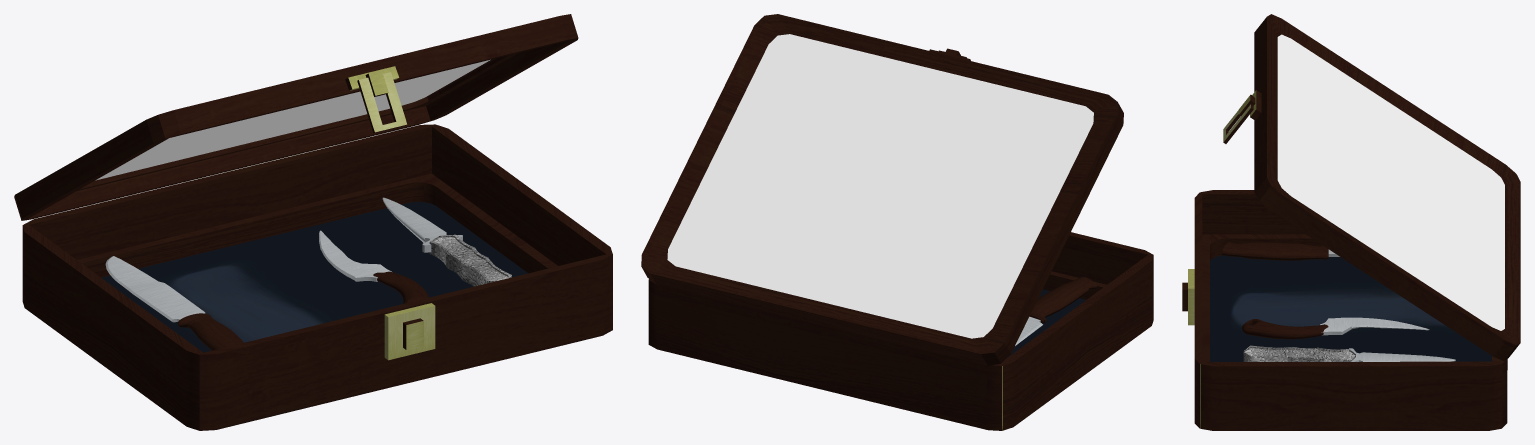
Rendered from OpenedCaseMissingKnife.fbx.
3 renders of one model, left to right at view 1: azimuth 30°, elevation 25°; view 2: azimuth 150°, elevation 25°; view 3: azimuth 270°, elevation 25°, orthographic. The views are drawn at different scales.
Visible parts, largest first — view 1: lockbottom1, locktophalf1, Blade_1, knifehandle2, Handle, pPlane2, blade2, pCylinder1; view 2: locktophalf1, lockbottom1, Handle; view 3: locktophalf1, lockbottom1, Handle, knifehandle2, pCylinder1, pPlane2, blade2.
Boxes of the visible parts, left/top/right/bottom form: lockbottom1: left=22, top=124, right=612, bottom=430; locktophalf1: left=14, top=14, right=578, bottom=220; Blade_1: left=105, top=256, right=205, bottom=322; knifehandle2: left=429, top=234, right=511, bottom=286; Handle: left=177, top=313, right=243, bottom=350; pPlane2: left=319, top=230, right=391, bottom=281; blade2: left=382, top=197, right=462, bottom=252; pCylinder1: left=373, top=271, right=428, bottom=303; locktophalf1: left=641, top=14, right=1123, bottom=365; lockbottom1: left=648, top=232, right=1153, bottom=430; Handle: left=1029, top=276, right=1096, bottom=323; locktophalf1: left=1223, top=14, right=1520, bottom=360; lockbottom1: left=1182, top=190, right=1507, bottom=430; Handle: left=1221, top=241, right=1328, bottom=260; knifehandle2: left=1243, top=345, right=1355, bottom=361; pCylinder1: left=1242, top=319, right=1328, bottom=339; pPlane2: left=1320, top=317, right=1429, bottom=335; blade2: left=1349, top=348, right=1455, bottom=361.
Size of the model in its own units: 6 by 3.91 by 4.87.
Materials: 3 (2 with a texture image).
